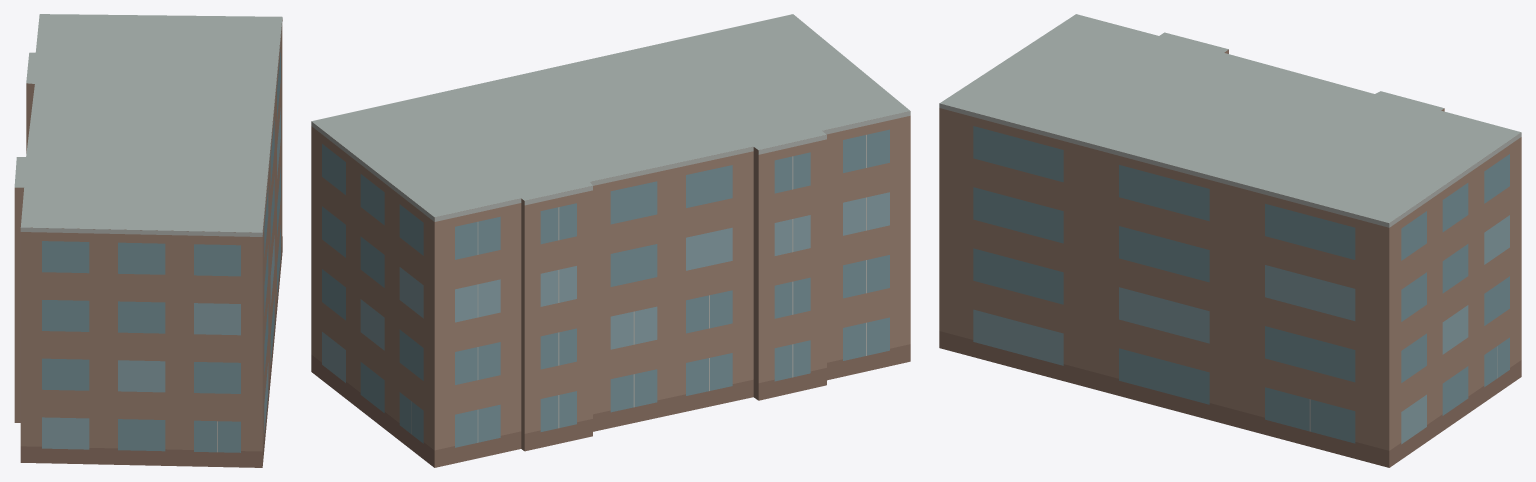
File: survey-upis-32582125.glb
The picture shows the model from 3 angles, left to right: view 1: azimuth 30°, elevation 25°; view 2: azimuth 150°, elevation 25°; view 3: azimuth 270°, elevation 25°; orthographic projection. The views are drawn at different scales.
Visible parts, largest first — view 1: survey-upis-32582125.tmp; view 2: survey-upis-32582125.tmp; view 3: survey-upis-32582125.tmp.
Part boxes in pixels (x1=…): survey-upis-32582125.tmp: x1=14, y1=14, x2=282, y2=467; survey-upis-32582125.tmp: x1=311, y1=14, x2=910, y2=467; survey-upis-32582125.tmp: x1=939, y1=14, x2=1521, y2=467.
Bounding box in the file's own units: 24 × 13.08 × 28.21.
